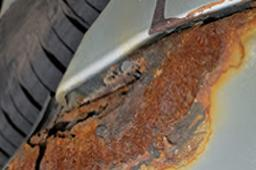rust: (1, 16, 246, 169)
